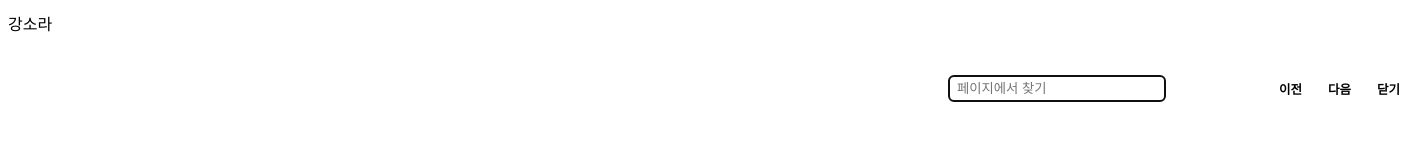
Test: FindBar 찾기 › 조합 중 자모만 있는 값은 못 찾아도 오류 없이 "찾는 글자가 없습니다"
In the field labelled "페이지에서 찾기": (1057, 88) [949, 76, 1165, 101], type "ㄱ"
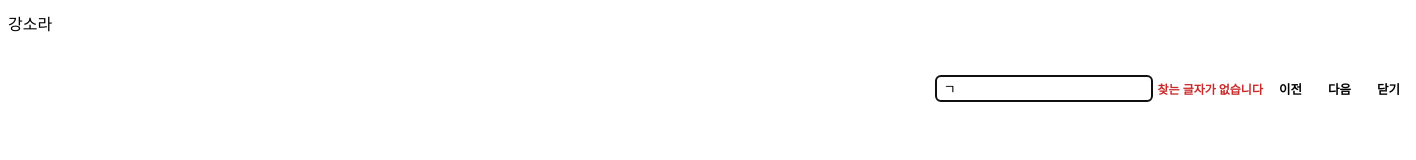
Now the message reads "찾는 글자가 없습니다", box [1158, 82, 1263, 96]
